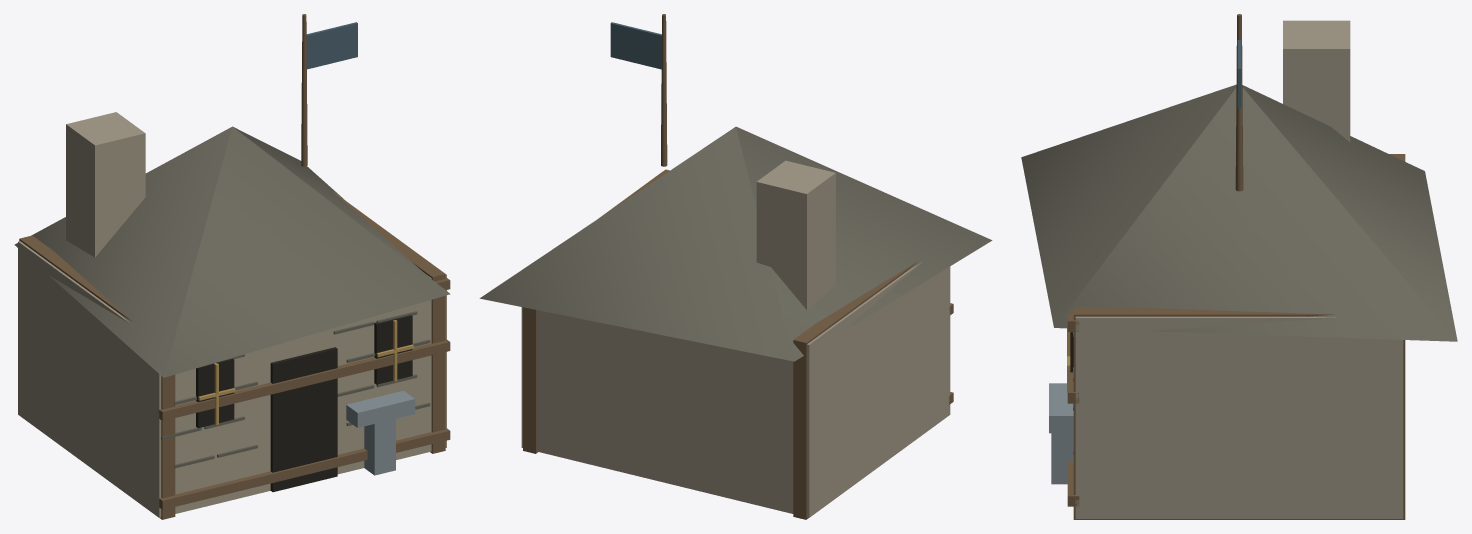
Rendered from b-smithy-english.glb.
3 renders of one model, left to right at view 1: azimuth 30°, elevation 25°; view 2: azimuth 150°, elevation 25°; view 3: azimuth 270°, elevation 25°, orthographic. The views are drawn at different scales.
Parts seen in each view (by area): view 1: Structure; view 2: Structure; view 3: Structure.
Boxes of the visible parts, left/top/right/bottom form: Structure: left=14, top=14, right=450, bottom=519; Structure: left=479, top=14, right=992, bottom=519; Structure: left=1021, top=14, right=1457, bottom=519.
Size of the model in its own units: 4.53 by 5.33 by 4.53.
